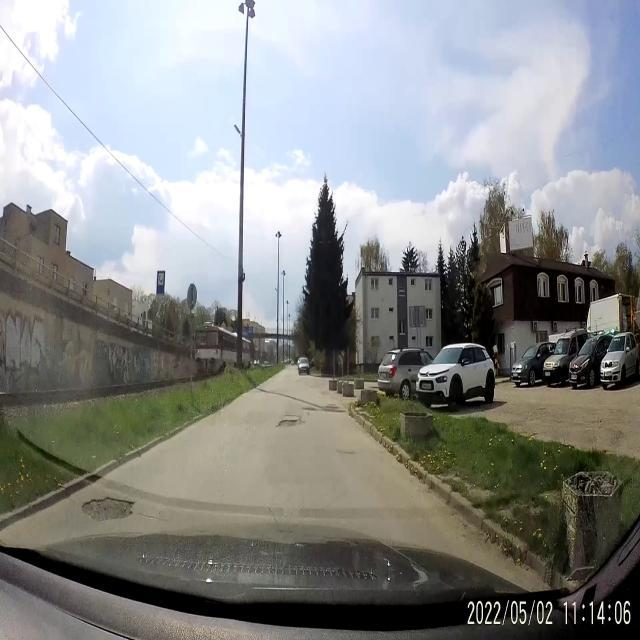Pothole: (78, 484, 141, 530), (276, 412, 310, 434)
